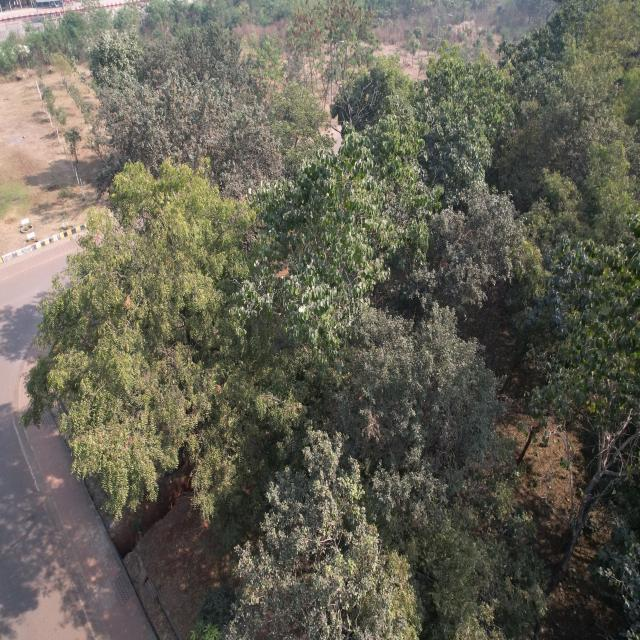Neem-Tree: (75, 195, 216, 479)
